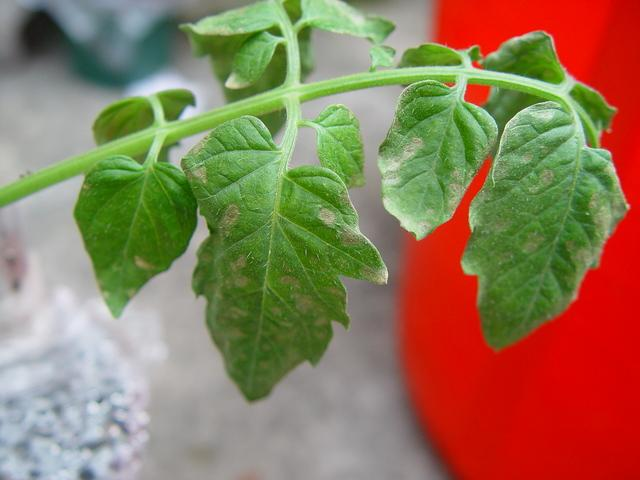Tomato mold leaf: (171, 121, 386, 416), (453, 103, 633, 357), (67, 158, 203, 321), (377, 82, 498, 247)
